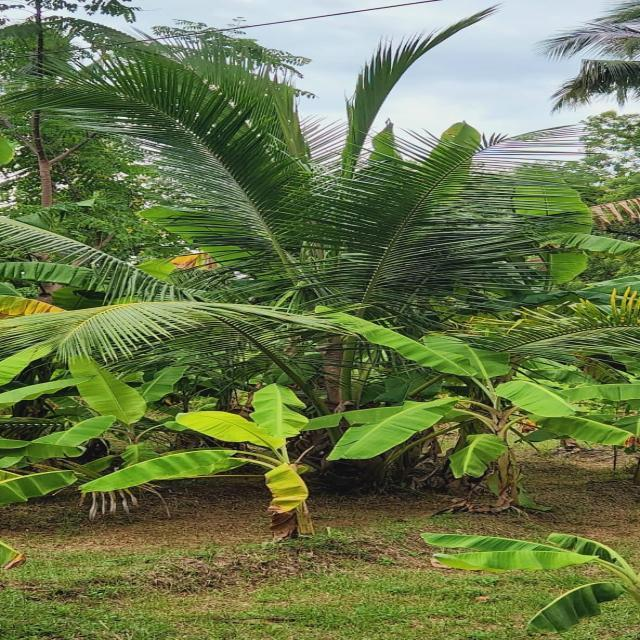Coconut-tree: (120, 38, 500, 432)
